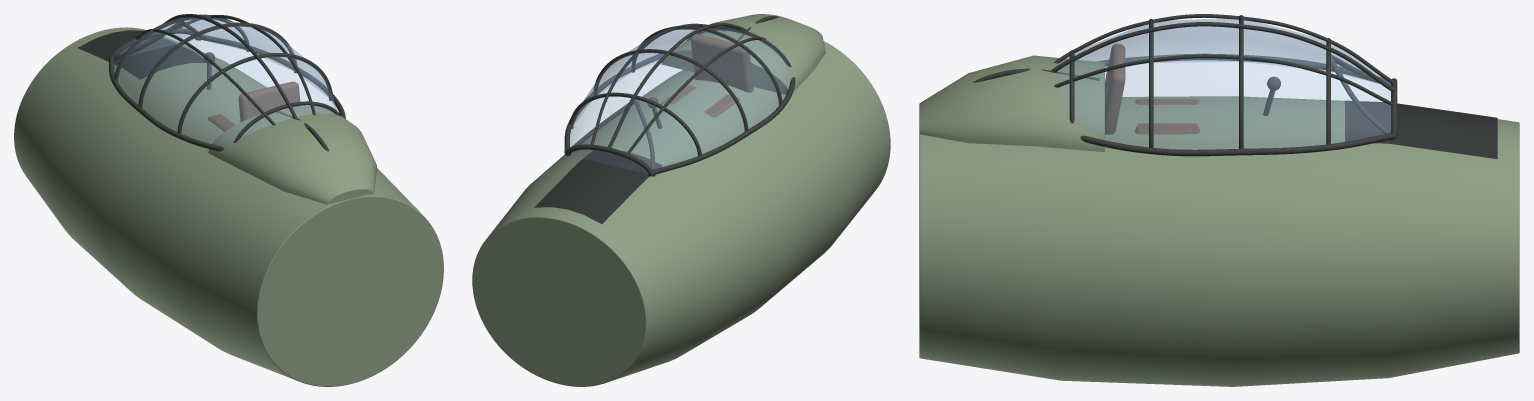
The model's file is spitfire_cockpit.glb.
The picture shows the model from 3 angles, left to right: view 1: azimuth 30°, elevation 25°; view 2: azimuth 150°, elevation 25°; view 3: azimuth 270°, elevation 25°; orthographic projection. The views are drawn at different scales.
Parts seen in each view (by area): view 1: SpitfireCockpitBody, SpitfireFramedGlass, RearSpineFairing, AntiGlarePanel, seat_back, canopy_frame_03, canopy_side_rail_-1, canopy_frame_02, canopy_side_rail_1, canopy_top_spine, canopy_frame_01, canopy_upper_longeron_-1 (+2 smaller); view 2: SpitfireCockpitBody, SpitfireFramedGlass, RearSpineFairing, AntiGlarePanel, seat_back, canopy_side_rail_-1, canopy_frame_02, canopy_top_spine, canopy_frame_03, canopy_frame_01, canopy_upper_longeron_-1, canopy_upper_longeron_1 (+4 smaller); view 3: SpitfireCockpitBody, SpitfireFramedGlass, RearSpineFairing, AntiGlarePanel, canopy_side_rail_1, canopy_top_spine, canopy_upper_longeron_-1, canopy_upper_longeron_1, seat_back, seat_pan, canopy_side_rail_-1, canopy_frame_02 (+3 smaller).
Part boxes in pixels (x1,y1,x2,y2): SpitfireCockpitBody: [14, 27, 443, 386]; SpitfireFramedGlass: [114, 17, 337, 143]; RearSpineFairing: [208, 106, 377, 204]; AntiGlarePanel: [77, 30, 205, 79]; seat_back: [238, 81, 300, 121]; canopy_frame_03: [177, 53, 332, 133]; canopy_side_rail_-1: [108, 55, 224, 151]; canopy_frame_02: [138, 22, 297, 107]; canopy_side_rail_1: [201, 35, 345, 118]; canopy_top_spine: [163, 14, 297, 118]; canopy_frame_01: [114, 14, 249, 81]; canopy_upper_longeron_-1: [135, 29, 275, 125]; SpitfireCockpitBody: [472, 41, 890, 386]; SpitfireFramedGlass: [569, 28, 788, 173]; RearSpineFairing: [661, 14, 825, 94]; AntiGlarePanel: [534, 150, 662, 223]; seat_back: [690, 34, 753, 92]; canopy_side_rail_-1: [652, 77, 795, 175]; canopy_frame_02: [593, 49, 748, 131]; canopy_top_spine: [608, 23, 748, 147]; canopy_frame_03: [631, 25, 782, 105]; canopy_frame_01: [569, 92, 701, 155]; canopy_upper_longeron_-1: [626, 37, 766, 153]; canopy_upper_longeron_1: [590, 23, 723, 144]; SpitfireCockpitBody: [919, 96, 1519, 386]; SpitfireFramedGlass: [1059, 18, 1390, 149]; RearSpineFairing: [919, 55, 1104, 151]; AntiGlarePanel: [1345, 100, 1497, 159]; canopy_side_rail_1: [1080, 133, 1395, 156]; canopy_top_spine: [1050, 22, 1395, 92]; canopy_upper_longeron_-1: [1053, 14, 1394, 83]; canopy_upper_longeron_1: [1054, 54, 1394, 105]; seat_back: [1105, 43, 1125, 134]; seat_pan: [1135, 99, 1200, 134]; canopy_side_rail_-1: [1098, 54, 1384, 82]; canopy_frame_02: [1239, 15, 1243, 148].
Bounding box in the file's own units: 1.18 × 1.41 × 2.2.
